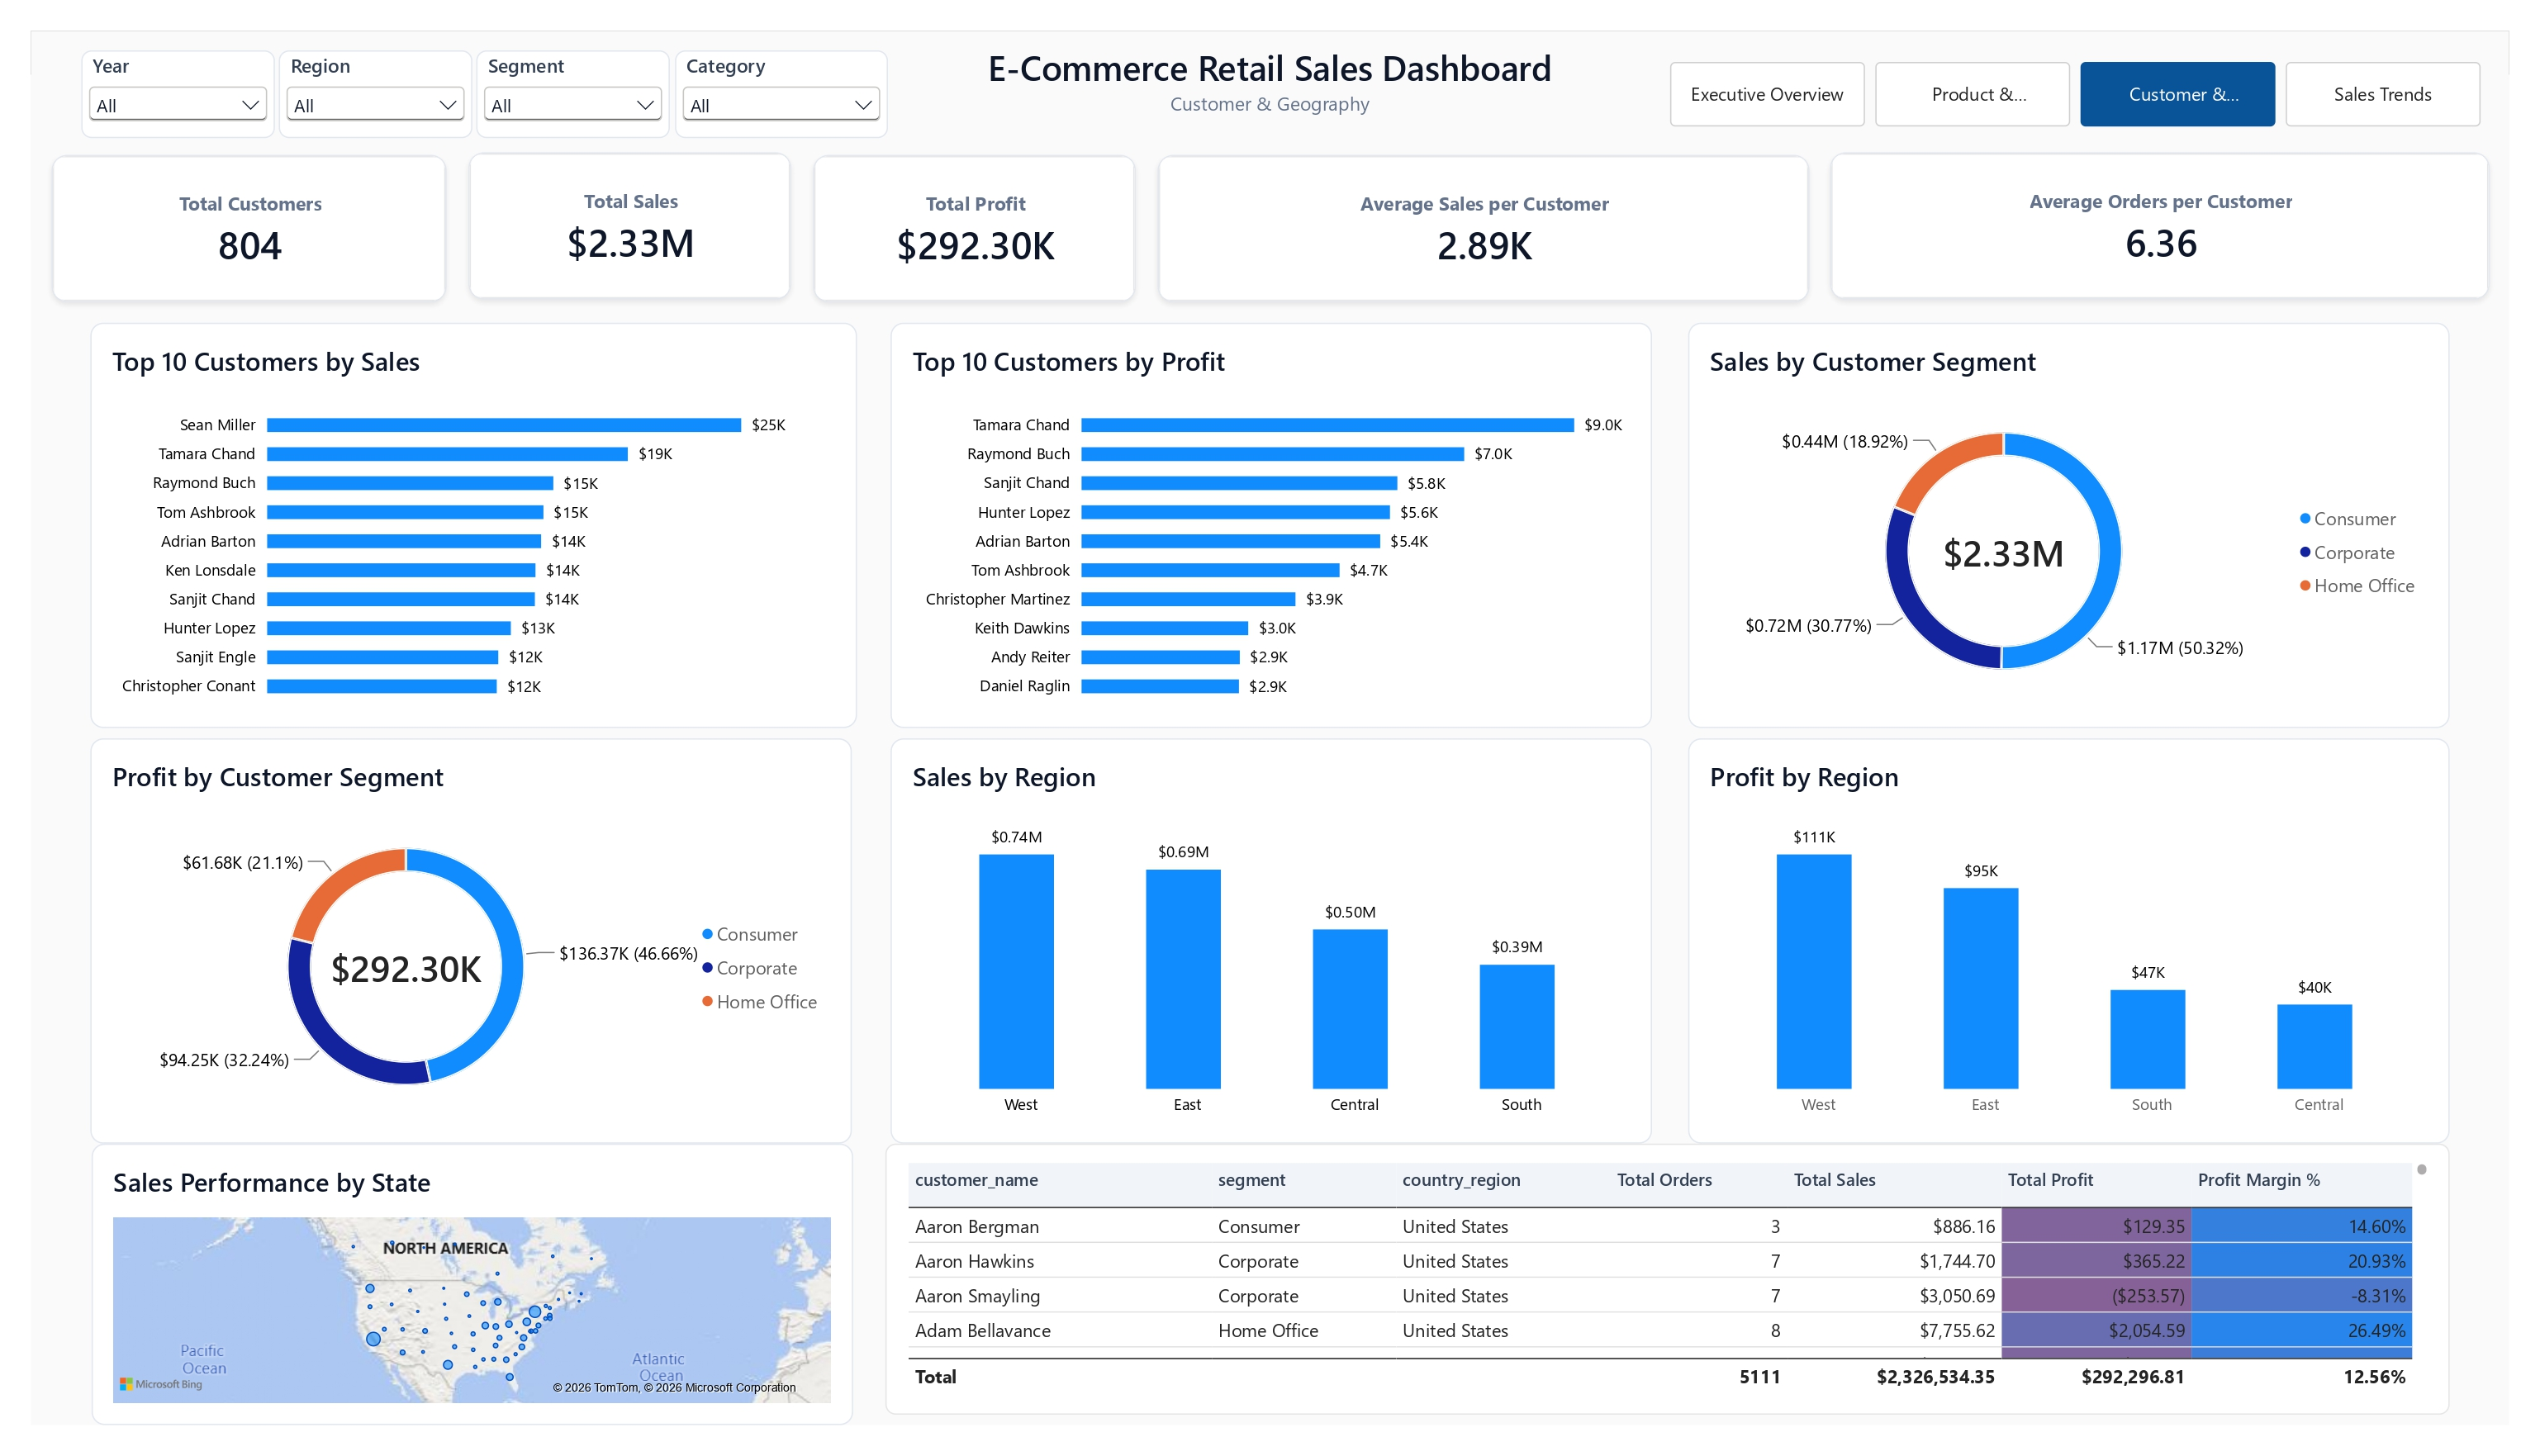

This screenshot's page, from the dashboard's own definition file:
{"tool":"powerbi","page":{"name":"Customer & Geography","canvas":[1920,1080],"ordinal":2},"visuals":[{"type":"textbox","box":[667.8,10,584.5,72],"z":0},{"type":"group","id":"g1","title":"Group 1","box":[15.6,93.9,1888.8,116.2],"z":1000},{"type":"clusteredBarChart","title":"Top 10 Customers by Sales","fields":{"Category":["superstore_cleaned.customer_name"],"Y":["_Measures.Total Sales"]},"box":[46,226,594,314],"z":2000},{"type":"clusteredBarChart","title":"Top 10 Customers by Profit","fields":{"Category":["superstore_cleaned.customer_name"],"Y":["_Measures.Total Profit"]},"box":[666,226,590,314],"z":3000},{"type":"donutChart","title":"Sales by Customer Segment","fields":{"Category":["superstore_cleaned.segment"],"Y":["_Measures.Total Sales"]},"box":[1284,226,590,314],"z":4000},{"type":"cardVisual","fields":{"Data":["_Measures.Average Orders per Customer"]},"box":[1394,93.9,510.3,114],"z":5000,"group":"g1"},{"type":"donutChart","title":"Profit by Customer Segment","fields":{"Category":["superstore_cleaned.segment"],"Y":["_Measures.Total Profit"]},"box":[46,548,590,314],"z":5000},{"type":"cardVisual","fields":{"Data":["_Measures.Average Sales per Customer"]},"box":[872.2,95.7,504.9,114],"z":6000,"group":"g1"},{"type":"clusteredColumnChart","title":"Sales by Region","fields":{"Category":["superstore_cleaned.region"],"Y":["_Measures.Total Sales"]},"box":[666,548,590,314],"z":6000},{"type":"cardVisual","fields":{"Data":["_Measures.Total Profit"]},"box":[605.3,96.1,250,114],"z":7000,"group":"g1"},{"type":"clusteredColumnChart","title":"Profit by Region","fields":{"Category":["superstore_cleaned.region"],"Y":["_Measures.Total Profit"]},"box":[1284,548,590,314],"z":7000},{"type":"cardVisual","fields":{"Data":["_Measures.Total Sales"]},"box":[338.4,94.3,250,114],"z":8000,"group":"g1"},{"type":"map","title":"Sales Performance by State","fields":{"Category":["superstore_cleaned.state_province"],"Size":["_Measures.Total Sales"]},"box":[47.2,862,590,218],"z":8000},{"type":"cardVisual","fields":{"Data":["_Measures.Total Customers"]},"box":[15.6,95.9,305.8,114],"z":9000,"group":"g1"},{"type":"tableEx","title":"Customer Performance Detail","fields":{"Values":["superstore_cleaned.customer_name","superstore_cleaned.segment","superstore_cleaned.country_region","_Measures.Total Orders","_Measures.Total Sales","_Measures.Total Profit","_Measures.Profit Margin %"]},"box":[661.6,862,1212.4,210],"z":9000},{"type":"slicer","fields":{"Values":["DateTable.Year"]},"box":[38.6,14.7,150,68.6],"z":10000},{"type":"slicer","fields":{"Values":["superstore_cleaned.region"]},"box":[191.9,15,150,68],"z":11000},{"type":"slicer","fields":{"Values":["superstore_cleaned.segment"]},"box":[345.2,15,150,68],"z":12000},{"type":"slicer","fields":{"Values":["superstore_cleaned.category"]},"box":[498.6,15.4,165.7,67.1],"z":13000},{"type":"pageNavigator","box":[1270,24,630,50],"z":13001}]}

Visuals, with their boxes on the page's 1920x1080 design canvas (x1, y1, x2, y2). These are canvas units, not pixel positions in the 2540x1456 screenshot, which may show the page scaled, cropped or inside an application window:
textbox: crop(668, 10, 1252, 82)
"Group 1" group: crop(16, 94, 1904, 210)
"Top 10 Customers by Sales" clusteredBarChart: crop(46, 226, 640, 540)
"Top 10 Customers by Profit" clusteredBarChart: crop(666, 226, 1256, 540)
"Sales by Customer Segment" donutChart: crop(1284, 226, 1874, 540)
cardVisual - _Measures.Average Orders per Customer: crop(1394, 94, 1904, 208)
"Profit by Customer Segment" donutChart: crop(46, 548, 636, 862)
cardVisual - _Measures.Average Sales per Customer: crop(872, 96, 1377, 210)
"Sales by Region" clusteredColumnChart: crop(666, 548, 1256, 862)
cardVisual - _Measures.Total Profit: crop(605, 96, 855, 210)
"Profit by Region" clusteredColumnChart: crop(1284, 548, 1874, 862)
cardVisual - _Measures.Total Sales: crop(338, 94, 588, 208)
"Sales Performance by State" map: crop(47, 862, 637, 1080)
cardVisual - _Measures.Total Customers: crop(16, 96, 321, 210)
"Customer Performance Detail" tableEx: crop(662, 862, 1874, 1072)
slicer - DateTable.Year: crop(39, 15, 189, 83)
slicer - superstore_cleaned.region: crop(192, 15, 342, 83)
slicer - superstore_cleaned.segment: crop(345, 15, 495, 83)
slicer - superstore_cleaned.category: crop(499, 15, 664, 82)
pageNavigator: crop(1270, 24, 1900, 74)
